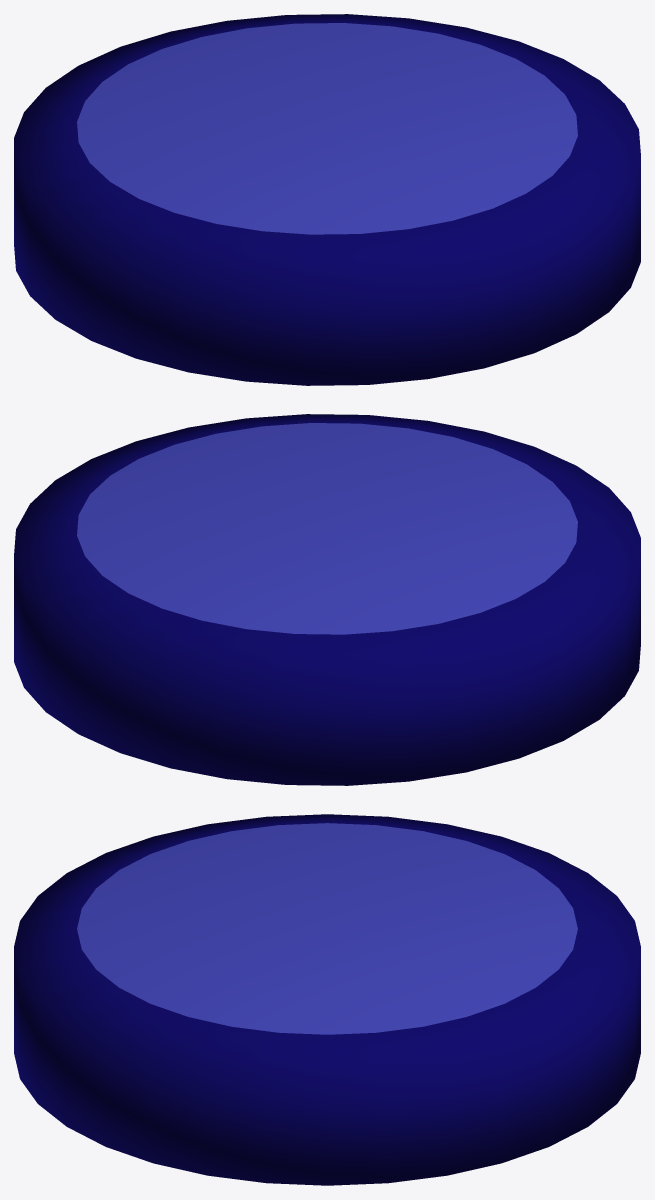
The model's file is player.glb.
3 renders of one model, top to bottom at view 1: azimuth 30°, elevation 25°; view 2: azimuth 150°, elevation 25°; view 3: azimuth 270°, elevation 25°, orthographic.
Visible parts, largest first — view 1: Cylinder; view 2: Cylinder; view 3: Cylinder.
Part boxes in pixels (left/top/right/bottom): Cylinder: left=14, top=14, right=640, bottom=385; Cylinder: left=14, top=414, right=640, bottom=785; Cylinder: left=14, top=814, right=640, bottom=1185.
Bounding box in the file's own units: 2 × 0.5 × 2.
